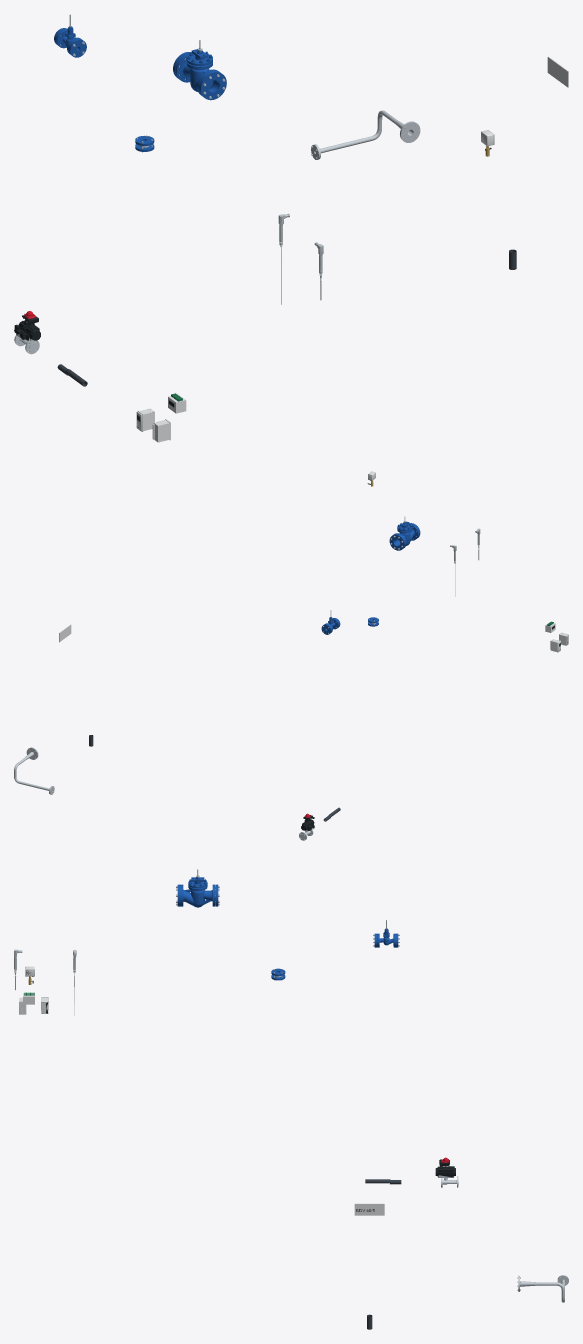
The picture shows the model from 3 angles, top to bottom: view 1: azimuth 30°, elevation 25°; view 2: azimuth 150°, elevation 25°; view 3: azimuth 270°, elevation 25°; orthographic projection. The views are drawn at different scales.
Visible parts, largest first — view 1: gpz CAD solid 0, fv_to_trap_gap / steel, bcv7432 / bcv7432_0.npz, gpz / blue; view 2: no part large enough to name; view 3: gpz CAD solid 0.
Part boxes in pixels (bbox=[...]): gpz CAD solid 0: bbox=[175, 40, 219, 95]; fv_to_trap_gap / steel: bbox=[311, 110, 420, 159]; bcv7432 / bcv7432_0.npz: bbox=[14, 311, 40, 354]; gpz / blue: bbox=[173, 52, 226, 100]; gpz CAD solid 0: bbox=[180, 869, 215, 907].
Bounding box in the file's own units: 5.45 × 3.53 × 5.59.
